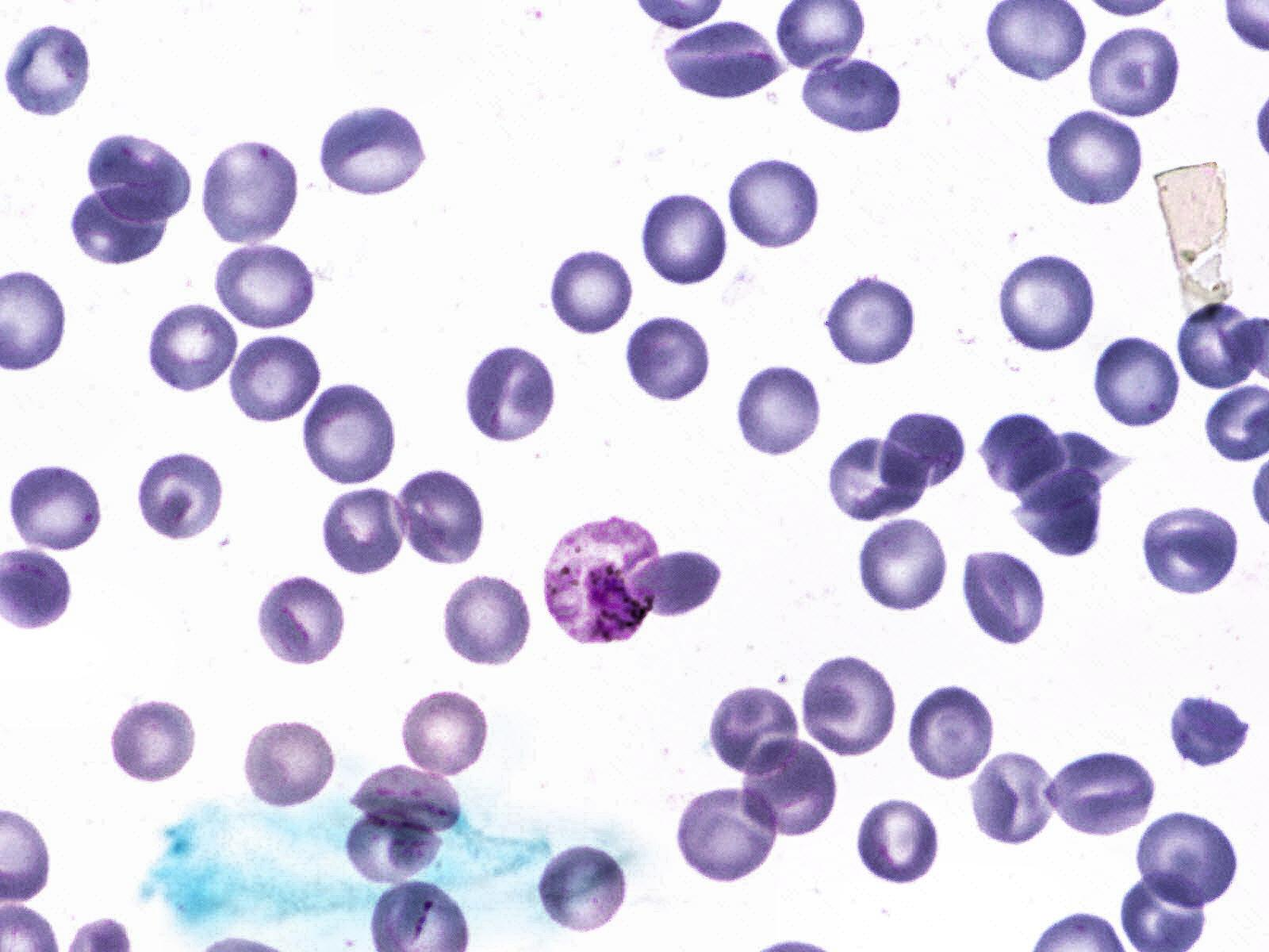Infected: (546, 512, 668, 643)
Uninfected: (194, 235, 320, 328), (1129, 808, 1241, 910), (1037, 110, 1152, 207), (203, 136, 305, 245), (321, 108, 439, 200), (994, 252, 1104, 350), (81, 132, 196, 225), (298, 384, 398, 489), (1041, 747, 1155, 835), (659, 24, 789, 100), (1141, 502, 1241, 599), (734, 741, 838, 834), (964, 543, 1052, 649), (970, 747, 1060, 848), (803, 659, 892, 761), (729, 159, 826, 252), (681, 792, 780, 883), (355, 759, 465, 840), (838, 435, 938, 524), (872, 409, 974, 496), (239, 719, 342, 805), (733, 364, 826, 459), (466, 342, 551, 445), (66, 193, 178, 271), (262, 574, 351, 671), (397, 470, 489, 563), (1087, 333, 1179, 426), (9, 463, 102, 554), (133, 456, 227, 546), (904, 688, 999, 777), (1018, 426, 1133, 499), (1016, 462, 1110, 551), (536, 843, 634, 928), (320, 486, 411, 577), (1091, 25, 1180, 118), (823, 275, 918, 362), (10, 27, 94, 125), (805, 59, 906, 140), (145, 308, 240, 392), (228, 340, 326, 421), (445, 578, 535, 666), (855, 798, 941, 888), (110, 698, 203, 781), (629, 311, 717, 397), (642, 200, 732, 284), (1179, 303, 1268, 387), (859, 528, 952, 607), (713, 686, 799, 770), (338, 815, 450, 879), (399, 698, 496, 771), (550, 250, 635, 332), (1165, 692, 1256, 766), (987, 404, 1068, 487), (635, 553, 732, 620)
